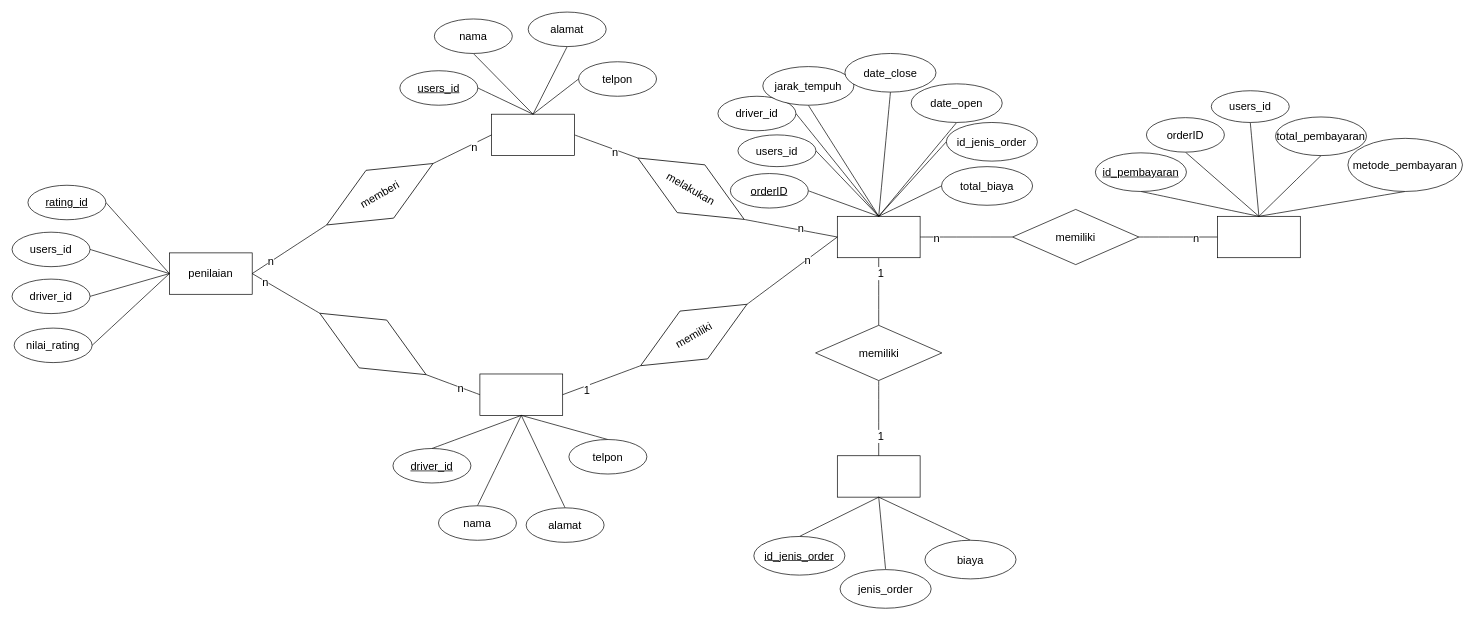
Image size: 1475x620. Some labels were removed from this diagram. The centre of each missing label's shape, as x and y in pixels:
"driver" goes at (x=521, y=394).
"jenis_orders" goes at (x=878, y=476).
"menerima" goes at (x=372, y=344).
"orders" goes at (x=878, y=237).
"pembayaran" goes at (x=1258, y=237).
"users" goes at (x=532, y=135).
